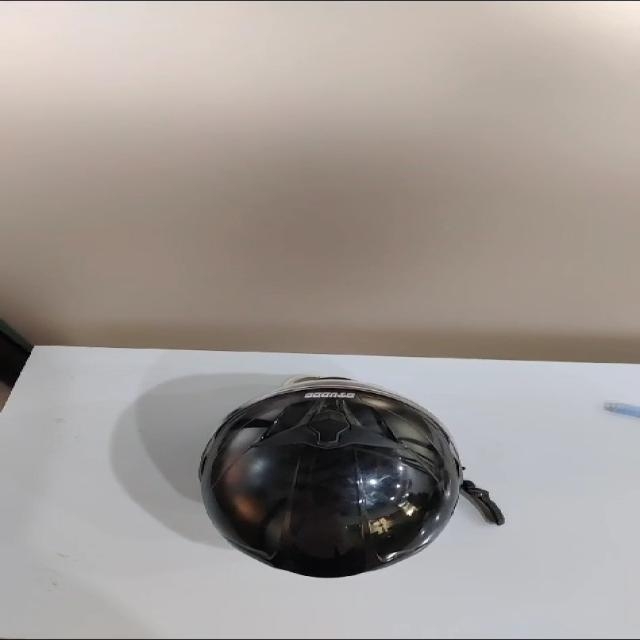helmet: (187, 377, 463, 590)
